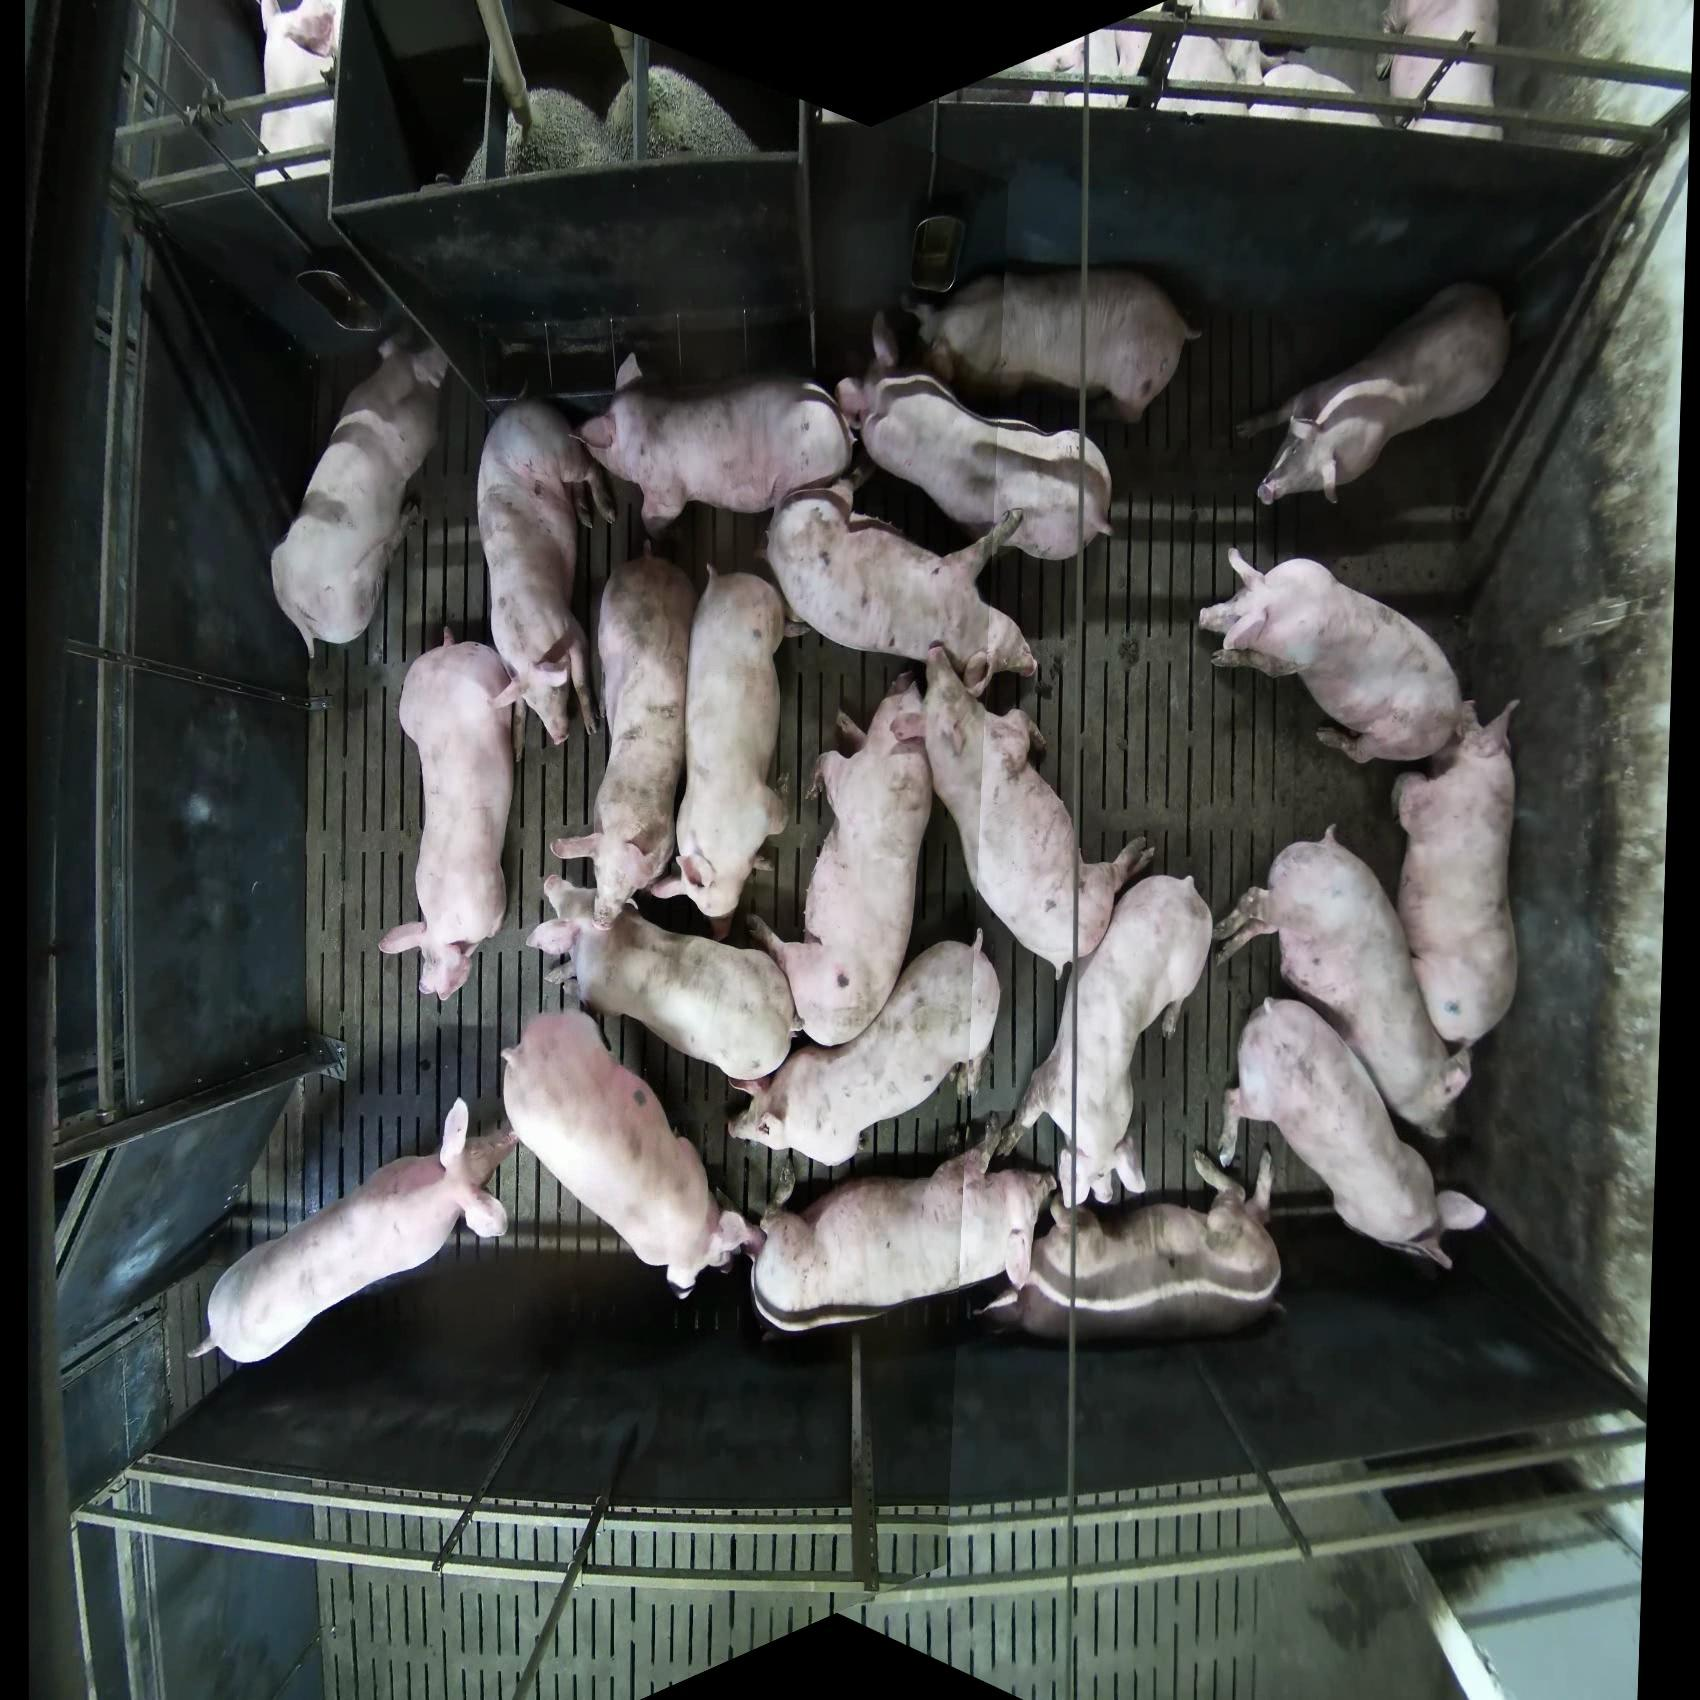pig: (185, 1098, 517, 1367), (1214, 824, 1474, 1143), (922, 641, 1155, 981), (500, 1007, 763, 1298), (987, 872, 1214, 1208), (1221, 995, 1488, 1272), (746, 671, 936, 1049), (836, 311, 1115, 560), (725, 928, 1003, 1168), (747, 1126, 1059, 1336), (761, 475, 1041, 701), (1235, 280, 1512, 508), (973, 1144, 1284, 1342), (1197, 546, 1473, 767), (269, 327, 451, 660), (526, 873, 797, 1084), (645, 565, 792, 936), (550, 550, 696, 920), (377, 634, 523, 1003), (576, 350, 855, 536), (475, 397, 618, 747), (901, 265, 1203, 427), (1392, 697, 1521, 1054), (1382, 2, 1501, 139), (257, 2, 342, 185), (459, 89, 623, 184), (606, 64, 761, 163), (1249, 58, 1392, 128)
